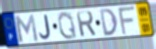D: (99, 8, 119, 38)
F: (118, 5, 137, 37)
J: (38, 14, 52, 41)
M: (13, 13, 40, 44)
Q: (57, 10, 79, 41)
R: (75, 10, 97, 38)
